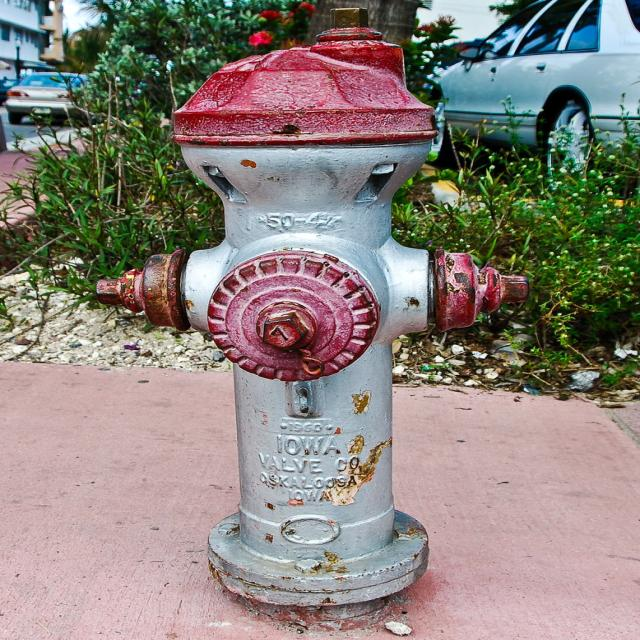fire_hydrant: (98, 10, 534, 618)
